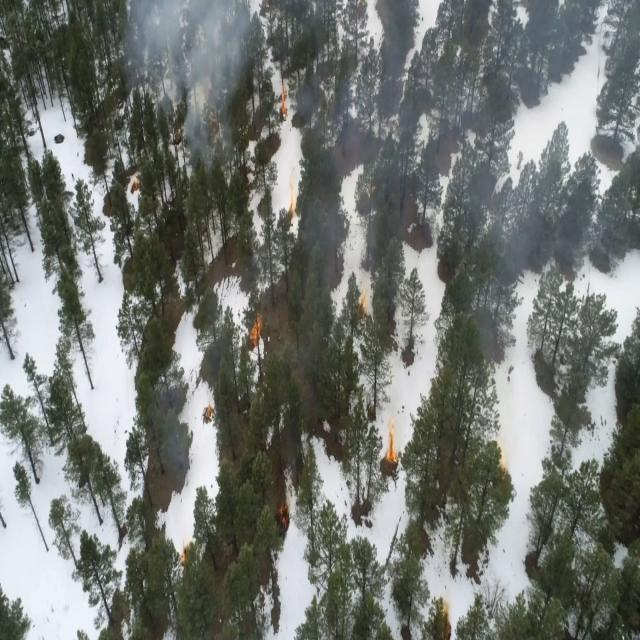Fire: (378, 412, 402, 474), (237, 308, 270, 345), (272, 78, 292, 122), (283, 168, 301, 216), (275, 490, 294, 532), (436, 592, 456, 626), (201, 400, 217, 425), (356, 288, 372, 312)
